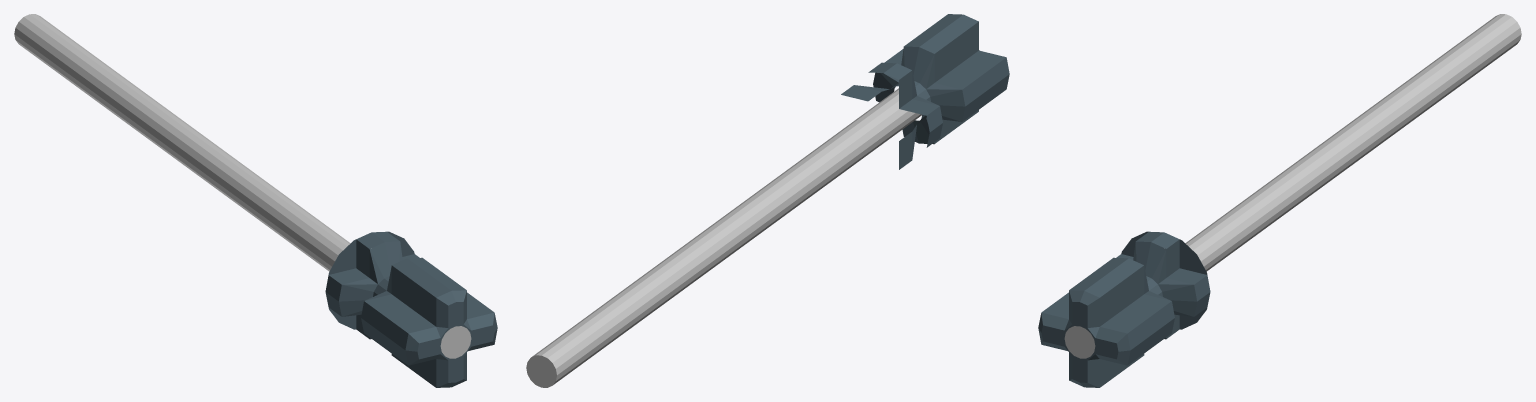
3 views of the same model, side by side, from view 1: azimuth 30°, elevation 25°; view 2: azimuth 150°, elevation 25°; view 3: azimuth 330°, elevation 25° (orthographic).
Visible parts, largest first — view 1: world; view 2: world; view 3: world.
Boxes of the visible parts, bbox=[...] form: world: bbox=[14, 14, 497, 387]; world: bbox=[526, 14, 1009, 387]; world: bbox=[1038, 14, 1521, 387].
Size of the model in its own units: 0.0048 by 0.0048 by 0.0384.
